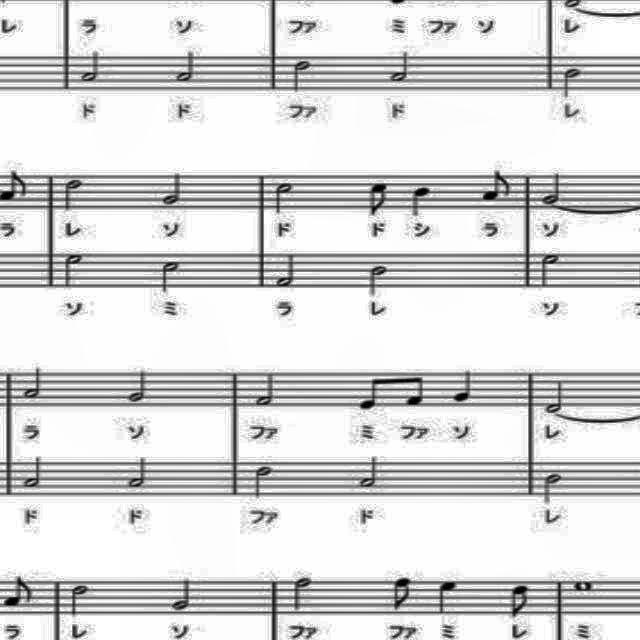Eighth-note: (352, 366, 388, 418), (398, 368, 434, 416), (384, 573, 421, 615), (1, 572, 39, 612), (477, 167, 513, 205), (502, 578, 534, 618), (364, 179, 391, 217)
Full-note: (572, 576, 596, 594)
Half-note: (264, 175, 300, 217), (250, 369, 286, 411), (284, 572, 316, 616), (284, 56, 316, 96), (56, 174, 88, 214), (386, 49, 418, 86), (270, 248, 298, 290), (64, 577, 92, 619), (156, 168, 188, 204), (120, 368, 152, 404), (75, 46, 105, 84), (168, 574, 196, 614), (536, 172, 568, 206), (538, 381, 572, 413), (172, 46, 200, 84), (360, 259, 388, 297), (534, 253, 562, 291), (19, 363, 47, 401), (250, 460, 276, 500), (354, 454, 382, 491), (556, 65, 586, 99), (157, 260, 185, 296), (19, 455, 45, 493), (62, 250, 86, 290), (540, 469, 564, 507), (126, 454, 150, 490)
Quarter-note: (432, 574, 468, 618), (449, 366, 479, 410), (408, 183, 440, 221)
